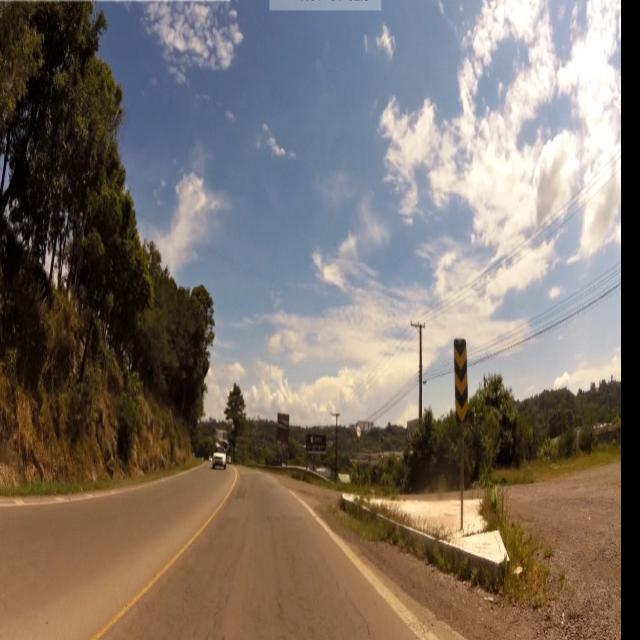MP: (453, 337, 473, 424)
